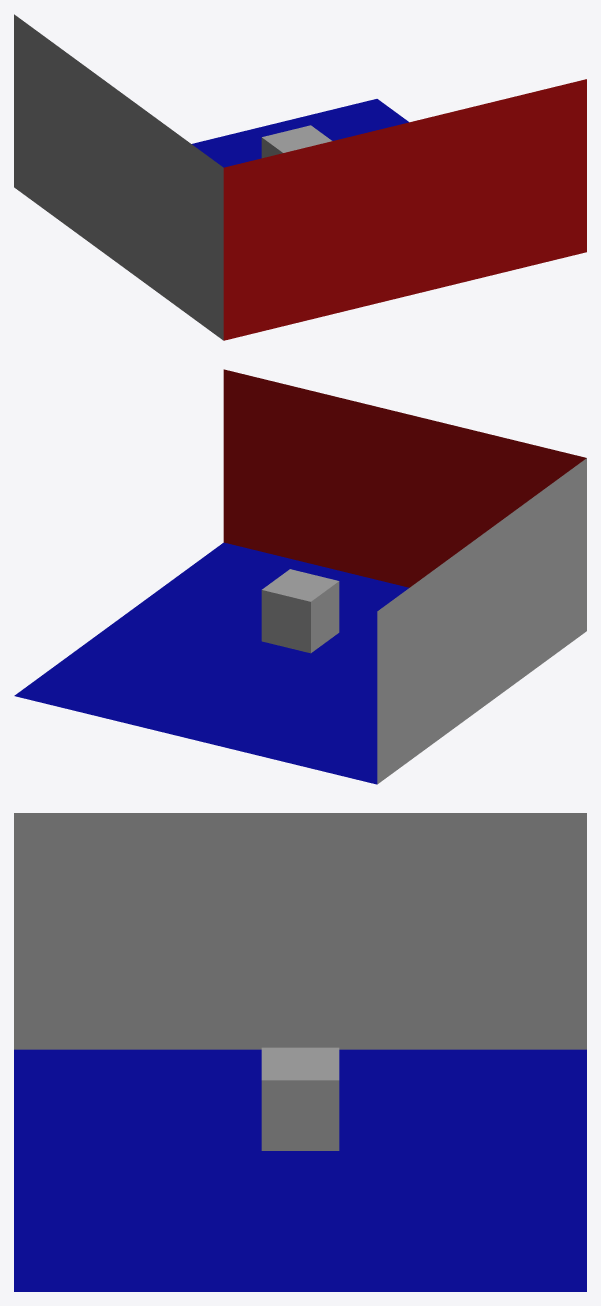
Rendered from cube_room_flat.obj.
The picture shows the model from 3 angles, top to bottom: view 1: azimuth 30°, elevation 25°; view 2: azimuth 150°, elevation 25°; view 3: azimuth 270°, elevation 25°; orthographic projection. The views are drawn at different scales.
Parts seen in each view (by area): view 1: Plane, Cube.002; view 2: Plane, Cube.002; view 3: Plane, Cube.002.
Boxes of the visible parts, left/top/right/bottom form: Plane: left=14, top=14, right=586, bottom=340; Cube.002: left=261, top=125, right=331, bottom=158; Plane: left=14, top=369, right=586, bottom=784; Cube.002: left=261, top=569, right=339, bottom=653; Plane: left=14, top=813, right=586, bottom=1291; Cube.002: left=261, top=1047, right=339, bottom=1150.
Size of the model in its own units: 3.75 by 1.71 by 3.75.
